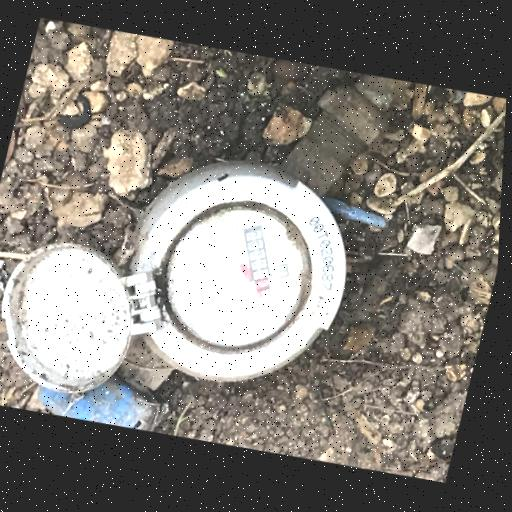0: (245, 236, 265, 254), (244, 226, 263, 243)
3: (252, 275, 272, 292), (248, 245, 266, 263), (249, 256, 268, 273)
6: (251, 265, 270, 283)
9: (253, 284, 274, 302)
border_water_meter_number: (224, 219, 294, 306)
